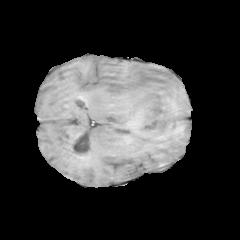glioma: (106, 66, 186, 131)
